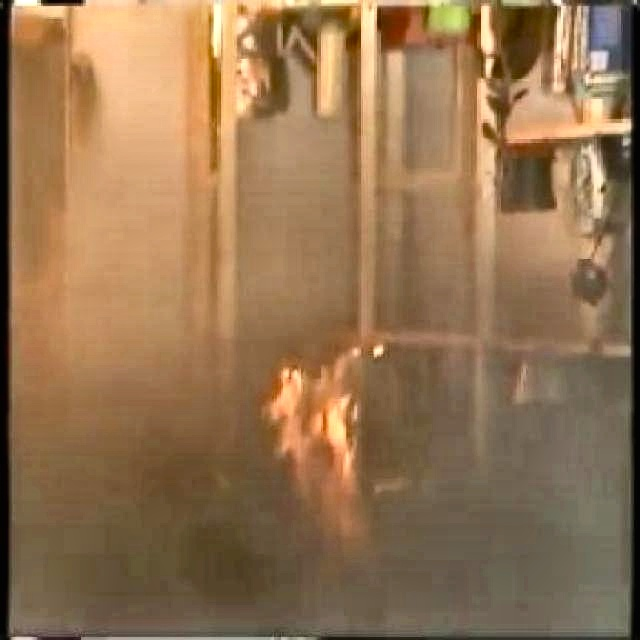fire: (250, 360, 396, 539)
